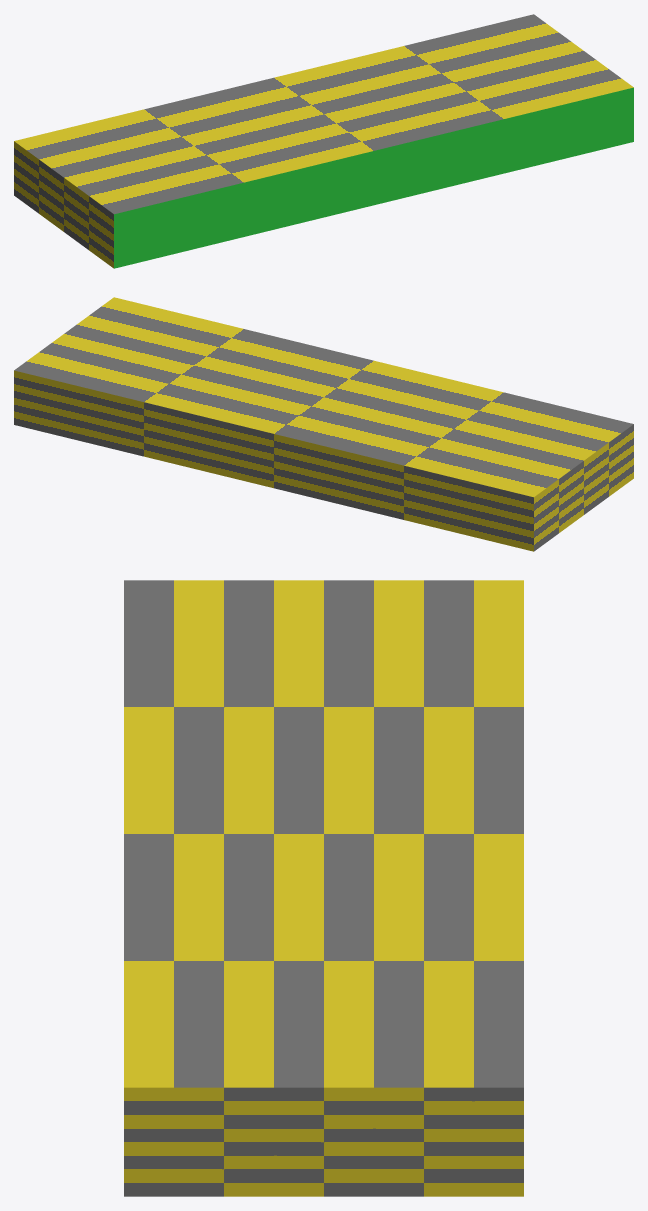
Rendered from 21_placeholder.glb.
3 renders of one model, top to bottom at view 1: azimuth 30°, elevation 25°; view 2: azimuth 150°, elevation 25°; view 3: azimuth 270°, elevation 25°, orthographic. The views are drawn at different scales.
Parts seen in each view (by area): view 1: Key (placeholder box); view 2: Key (placeholder box); view 3: Key (placeholder box).
Part boxes in pixels (x1,y1,x2,y2): Key (placeholder box): (14,14,633,268); Key (placeholder box): (14,297,633,551); Key (placeholder box): (124,580,523,1196).
Bounding box in the file's own units: 0.06 × 0.006 × 0.02.
Materials: 1 (1 with a texture image).
